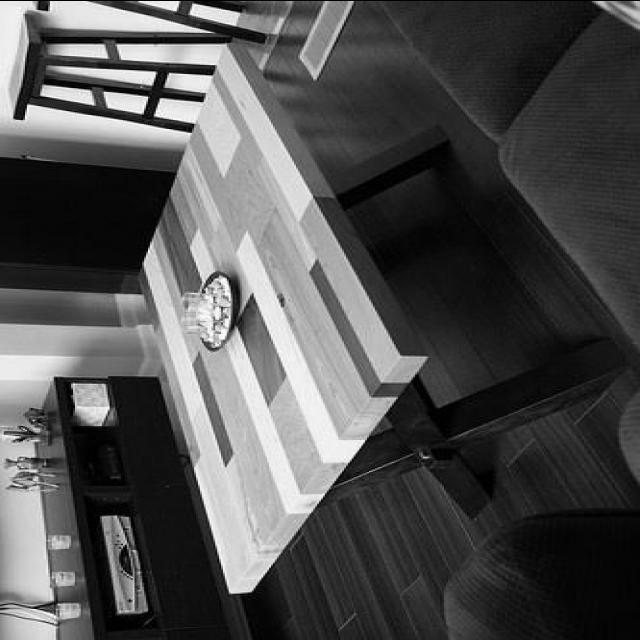table: (140, 37, 614, 592)
